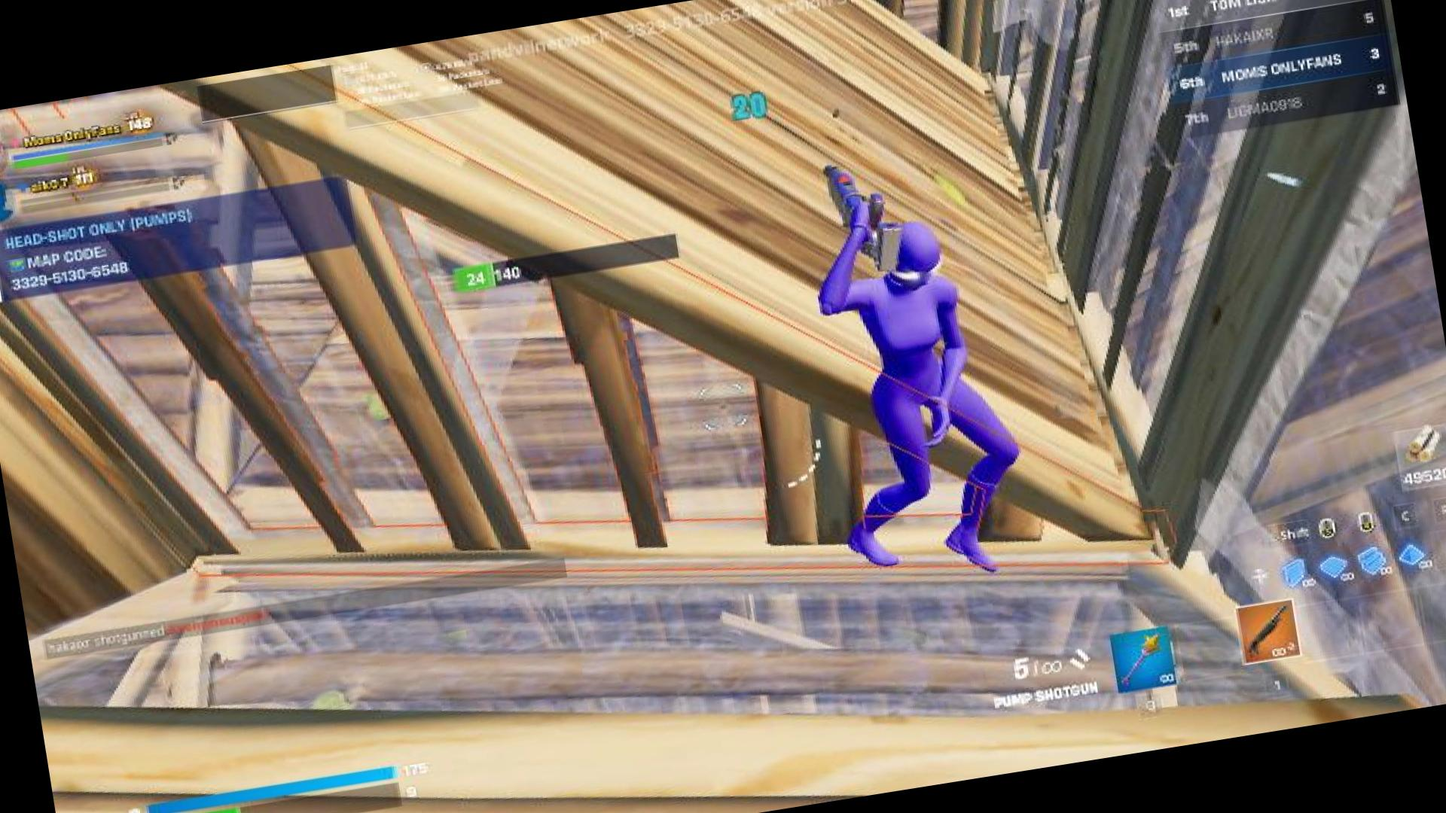player: (781, 164, 1043, 611)
